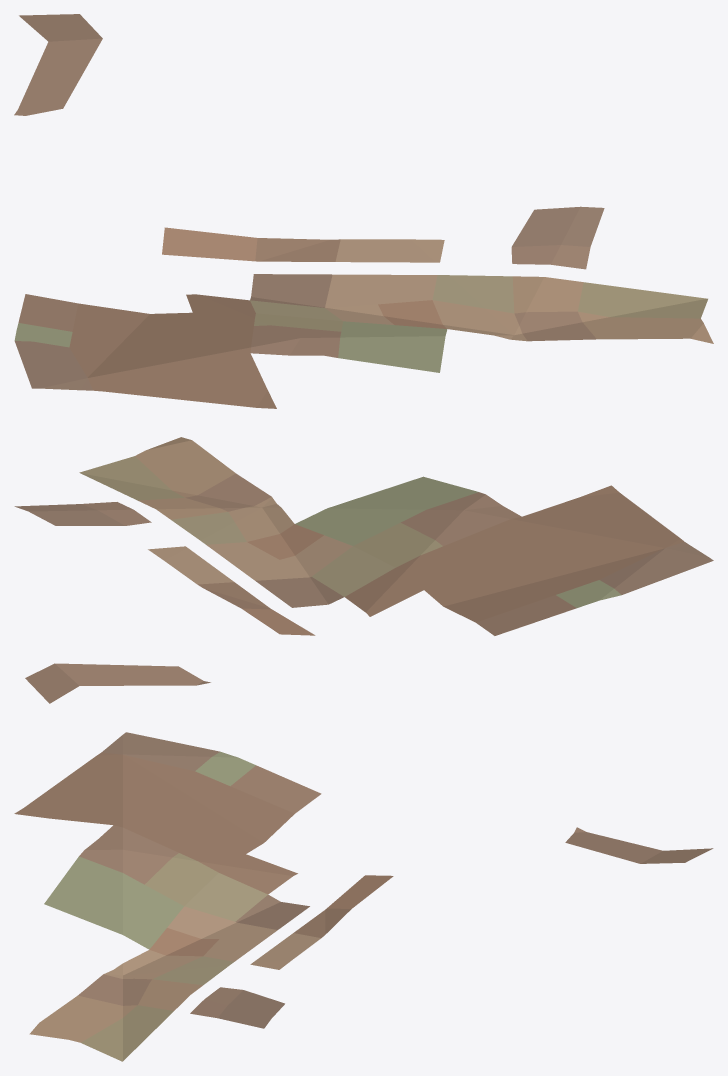
File: farm_-24_-38_soil.glb
The picture shows the model from 3 angles, top to bottom: view 1: azimuth 30°, elevation 25°; view 2: azimuth 150°, elevation 25°; view 3: azimuth 270°, elevation 25°; orthographic projection. The views are drawn at different scales.
Parts seen in each view (by area): view 1: geometry_0; view 2: geometry_0; view 3: geometry_0.
Part boxes in pixels (x1=…): geometry_0: x1=14, y1=14, x2=713, y2=408; geometry_0: x1=14, y1=437, x2=713, y2=703; geometry_0: x1=14, y1=732, x2=713, y2=1061.
Size of the model in its own units: 253 by 36.95 by 277.
